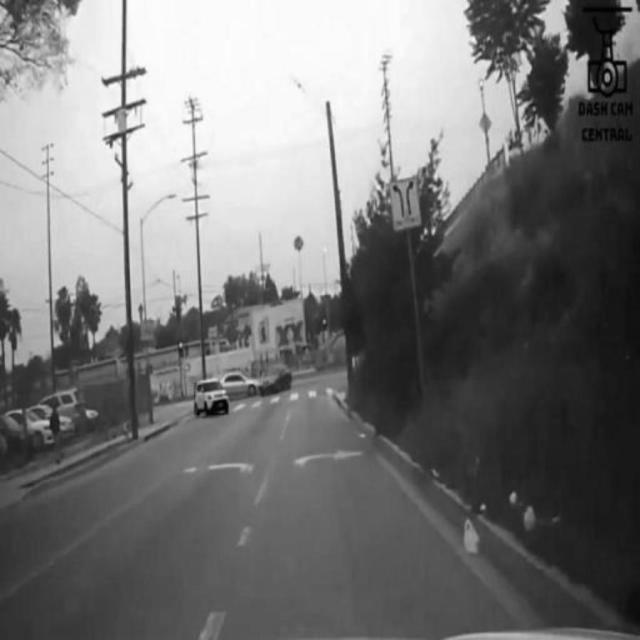accident: (222, 369, 290, 397)
vehicle: (194, 382, 229, 416)
